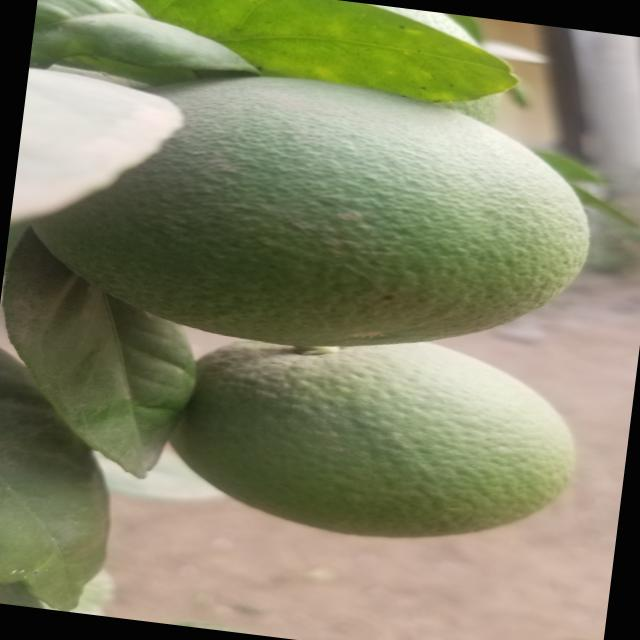Unripe: (18, 48, 596, 379), (155, 312, 597, 562)
